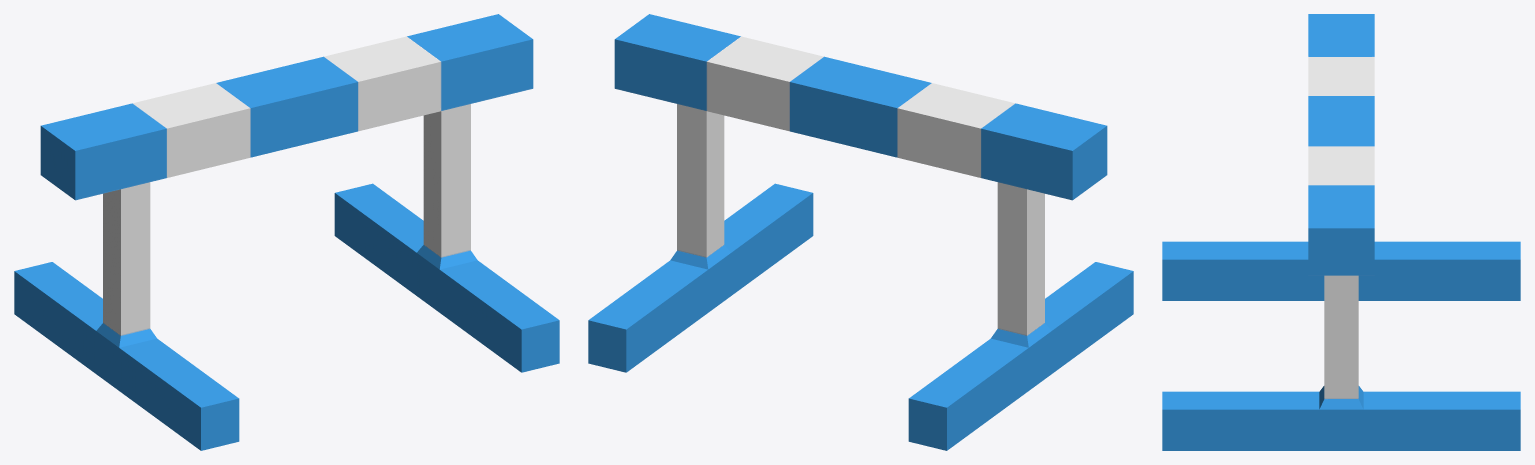
Rendered from Hurdles.fbx.
3 renders of one model, left to right at view 1: azimuth 30°, elevation 25°; view 2: azimuth 150°, elevation 25°; view 3: azimuth 270°, elevation 25°, orthographic. The views are drawn at different scales.
Parts seen in each view (by area): view 1: Cube; view 2: Cube; view 3: Cube.
Boxes of the visible parts, x1,y1,x2,y2 form: Cube: (14, 14, 559, 450); Cube: (588, 14, 1133, 450); Cube: (1162, 14, 1520, 450).
Bounding box in the file's own units: 1937 × 1036 × 1368.
Materials: 1 (1 with a texture image).
